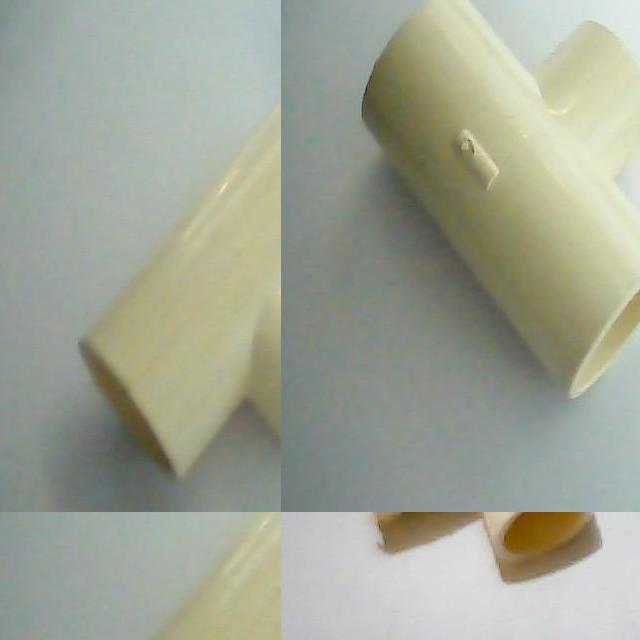T Joint: (359, 0, 640, 402), (77, 95, 281, 483), (148, 512, 281, 640)
